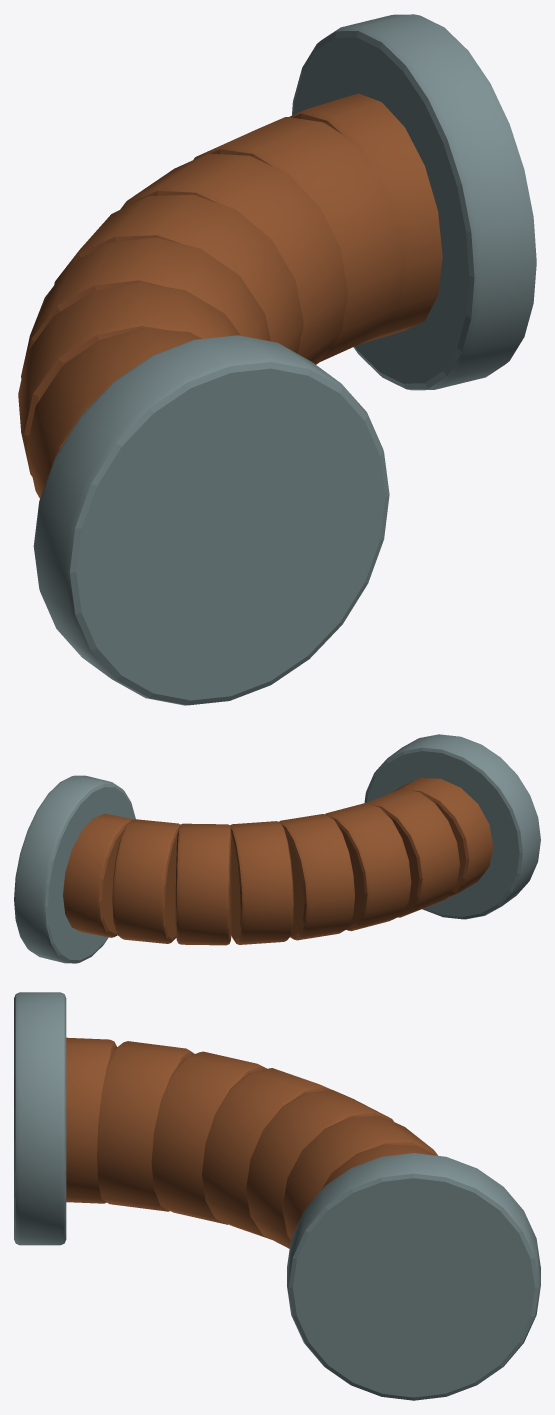
Rendered from SM_PipeElbow_090.fbx.
3 views of the same model, one above another, from view 1: azimuth 30°, elevation 25°; view 2: azimuth 150°, elevation 25°; view 3: azimuth 270°, elevation 25° (orthographic). The views are drawn at different scales.
Parts seen in each view (by area): view 1: SM_PipeElbow_090; view 2: SM_PipeElbow_090; view 3: SM_PipeElbow_090.
Part boxes in pixels (x1,y1,x2,y2): SM_PipeElbow_090: (18,14,536,705); SM_PipeElbow_090: (14,734,540,963); SM_PipeElbow_090: (14,992,540,1400).
Size of what is drawn, in the model's own units: 0.705 by 0.705 by 0.34.
